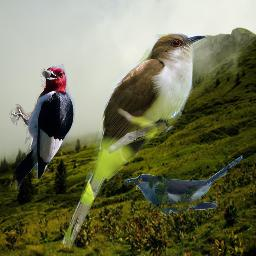Cuckoo: (61, 31, 207, 248), (124, 155, 246, 216)
Woodpecker: (6, 59, 75, 195)
